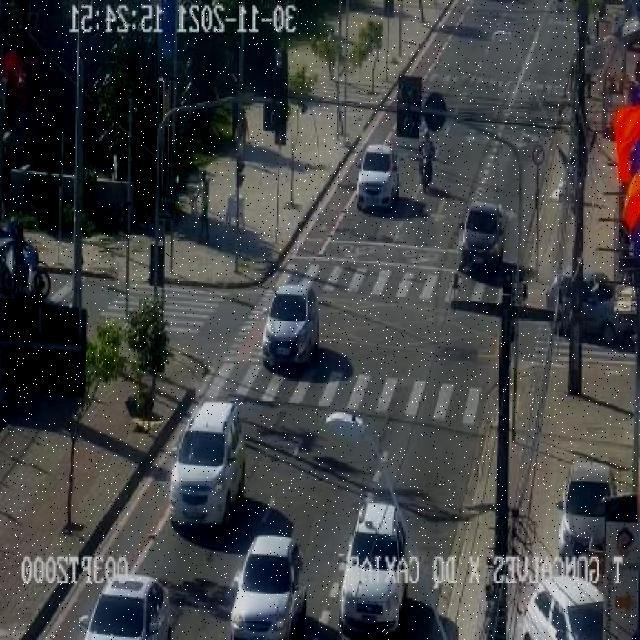Car: (166, 394, 254, 536), (255, 278, 328, 378)
